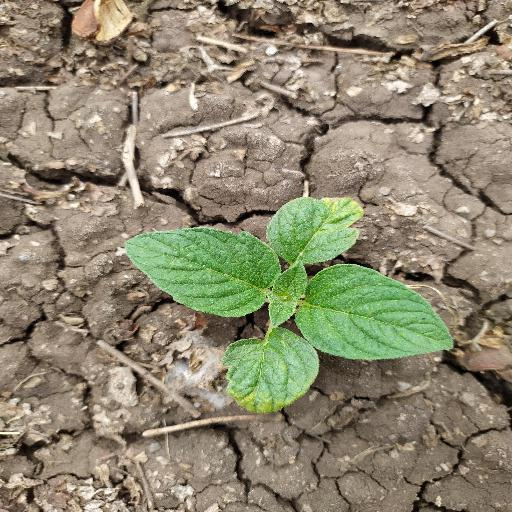crop: (106, 178, 464, 423)
